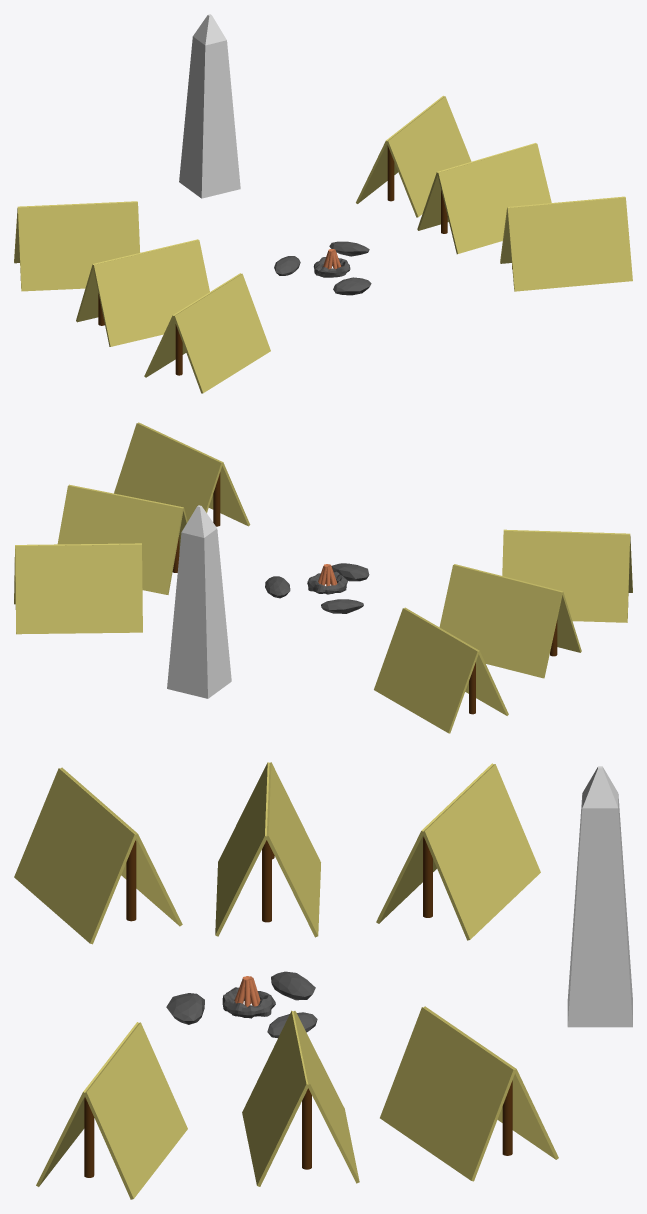
Rendered from StagingGrounds.fbx.
3 renders of one model, top to bottom at view 1: azimuth 30°, elevation 25°; view 2: azimuth 150°, elevation 25°; view 3: azimuth 270°, elevation 25°, orthographic. The views are drawn at different scales.
Parts seen in each view (by area): view 1: Tent Roof, Monument, Campfire, Tent Struts; view 2: Tent Roof, Monument, Campfire, Tent Struts; view 3: Tent Roof, Monument, Tent Struts, Campfire.
Boxes of the visible parts, x1,y1,x2,y2 form: Tent Roof: (14,95,632,393); Monument: (179,14,240,198); Campfire: (274,241,371,295); Tent Struts: (98,145,512,375); Tent Roof: (14,422,632,733); Monument: (167,505,231,698); Campfire: (265,563,369,613); Tent Struts: (172,472,557,714); Tent Roof: (14,762,558,1199); Monument: (567,766,632,1027); Tent Struts: (84,837,512,1177); Campfire: (166,971,317,1038).
Size of the model in its own units: 694 by 243 by 527.
